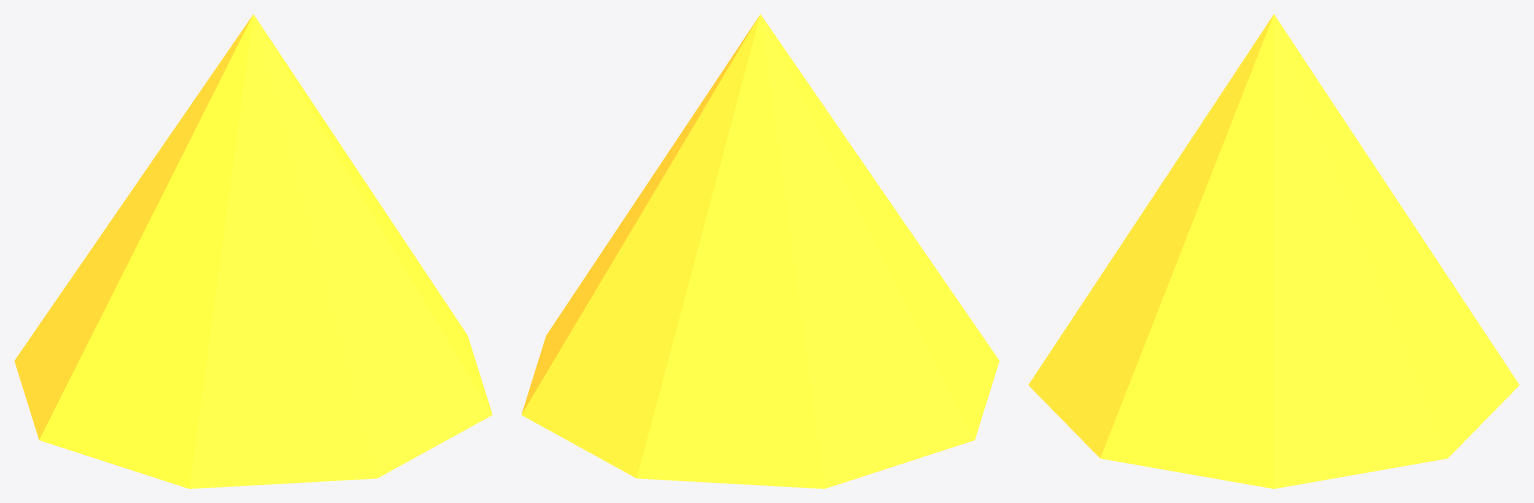
The model's file is lv2_c2_lev4.glb.
3 views of the same model, side by side, from view 1: azimuth 30°, elevation 25°; view 2: azimuth 150°, elevation 25°; view 3: azimuth 270°, elevation 25° (orthographic).
Parts seen in each view (by area): view 1: lv2_c2_lev4; view 2: lv2_c2_lev4; view 3: lv2_c2_lev4.
Boxes of the visible parts, x1,y1,x2,y2 form: lv2_c2_lev4: [14, 14, 492, 488]; lv2_c2_lev4: [521, 14, 999, 488]; lv2_c2_lev4: [1028, 14, 1519, 488].
Bounding box in the file's own units: 0.3 × 0.25 × 0.3.
